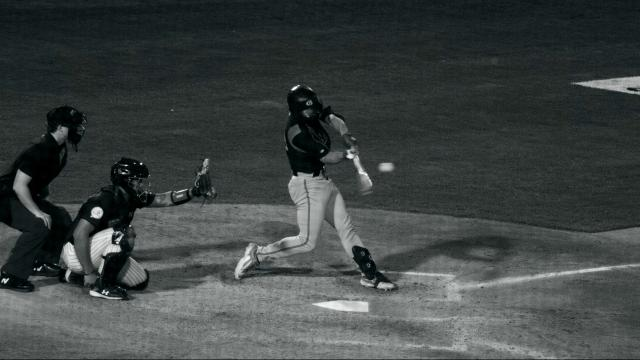baseball bat: (354, 154, 374, 192)
sports ball: (381, 163, 394, 173)
